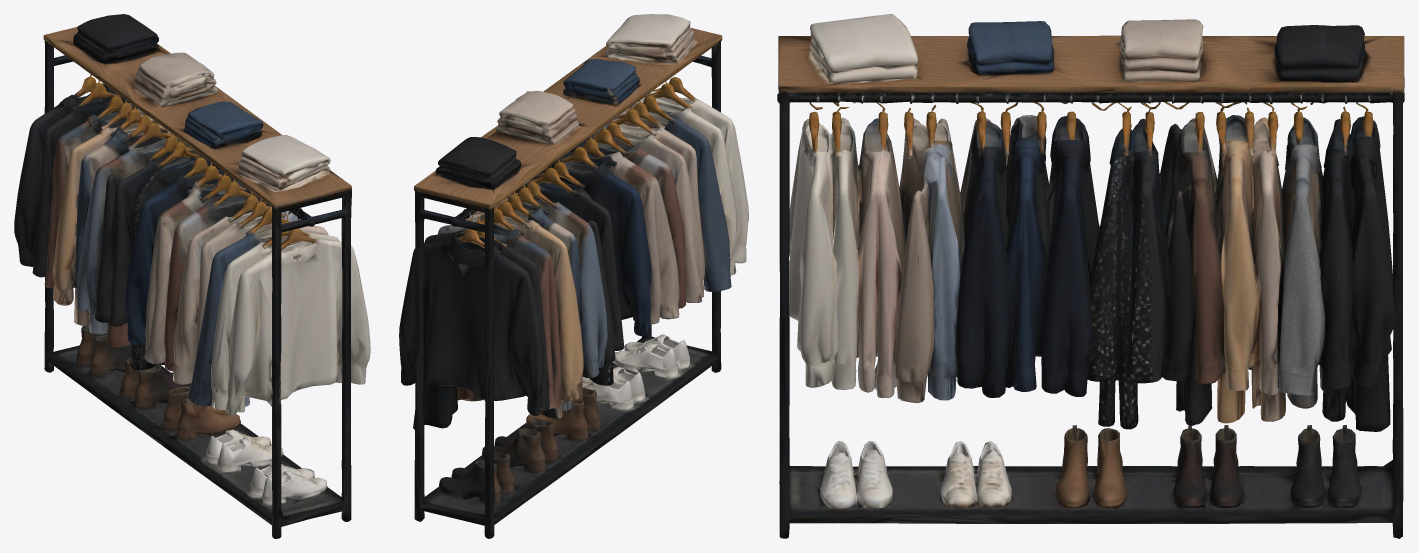
Rendered from clothrail.glb.
3 views of the same model, side by side, from view 1: azimuth 30°, elevation 25°; view 2: azimuth 150°, elevation 25°; view 3: azimuth 270°, elevation 25° (orthographic). The views are drawn at different scales.
Visible parts, largest first — view 1: tripo_node_c77b2e2e-3d52-4b21-924a-4841dd4a9c13; view 2: tripo_node_c77b2e2e-3d52-4b21-924a-4841dd4a9c13; view 3: tripo_node_c77b2e2e-3d52-4b21-924a-4841dd4a9c13.
Part boxes in pixels (x1,y1,x2,y2): tripo_node_c77b2e2e-3d52-4b21-924a-4841dd4a9c13: (14,14,370,538); tripo_node_c77b2e2e-3d52-4b21-924a-4841dd4a9c13: (399,14,748,538); tripo_node_c77b2e2e-3d52-4b21-924a-4841dd4a9c13: (777,14,1404,538).
Size of the model in its own units: 0.8128 by 1.8 by 2.09.
1 material, 1 textured.
